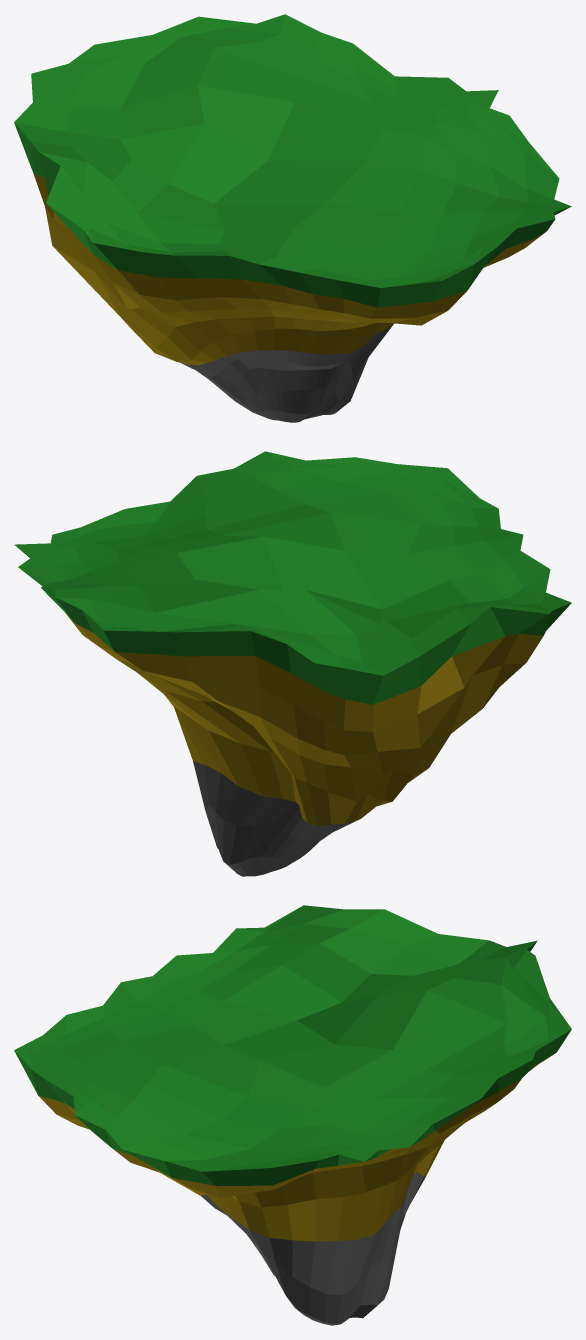
File: Platform_ground_5.fbx
3 renders of one model, top to bottom at view 1: azimuth 30°, elevation 25°; view 2: azimuth 150°, elevation 25°; view 3: azimuth 270°, elevation 25°, orthographic. The views are drawn at different scales.
Parts seen in each view (by area): view 1: Sphere; view 2: Sphere; view 3: Sphere.
Boxes of the visible parts, left/top/right/bottom form: Sphere: left=14, top=14, right=571, bottom=422; Sphere: left=14, top=451, right=571, bottom=876; Sphere: left=14, top=905, right=571, bottom=1325.
Bounding box in the file's own units: 331 × 211 × 340.
